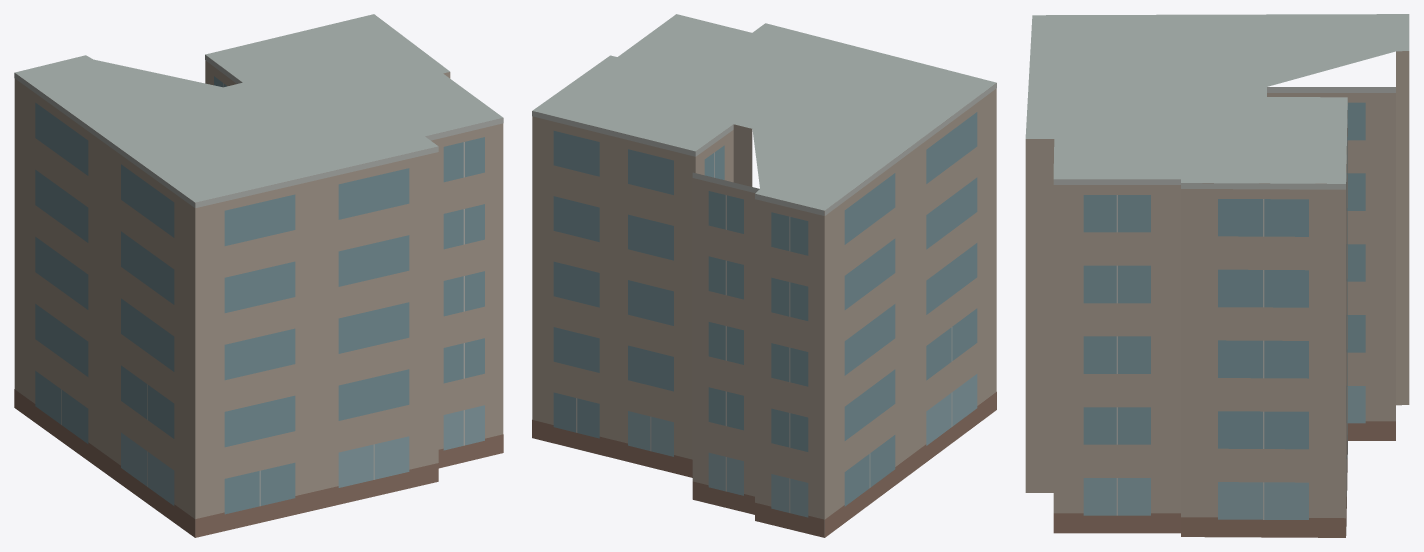
The model's file is survey-upis-32543320.glb.
3 views of the same model, side by side, from view 1: azimuth 30°, elevation 25°; view 2: azimuth 150°, elevation 25°; view 3: azimuth 270°, elevation 25° (orthographic). The views are drawn at different scales.
Visible parts, largest first — view 1: survey-upis-32543320.tmp; view 2: survey-upis-32543320.tmp; view 3: survey-upis-32543320.tmp.
Boxes of the visible parts, box(x1,y1,x2,y2) form: survey-upis-32543320.tmp: box(14, 14, 503, 537); survey-upis-32543320.tmp: box(532, 14, 996, 537); survey-upis-32543320.tmp: box(1025, 14, 1409, 537).
Bounding box in the file's own units: 15.04 × 14.6 × 14.36.
